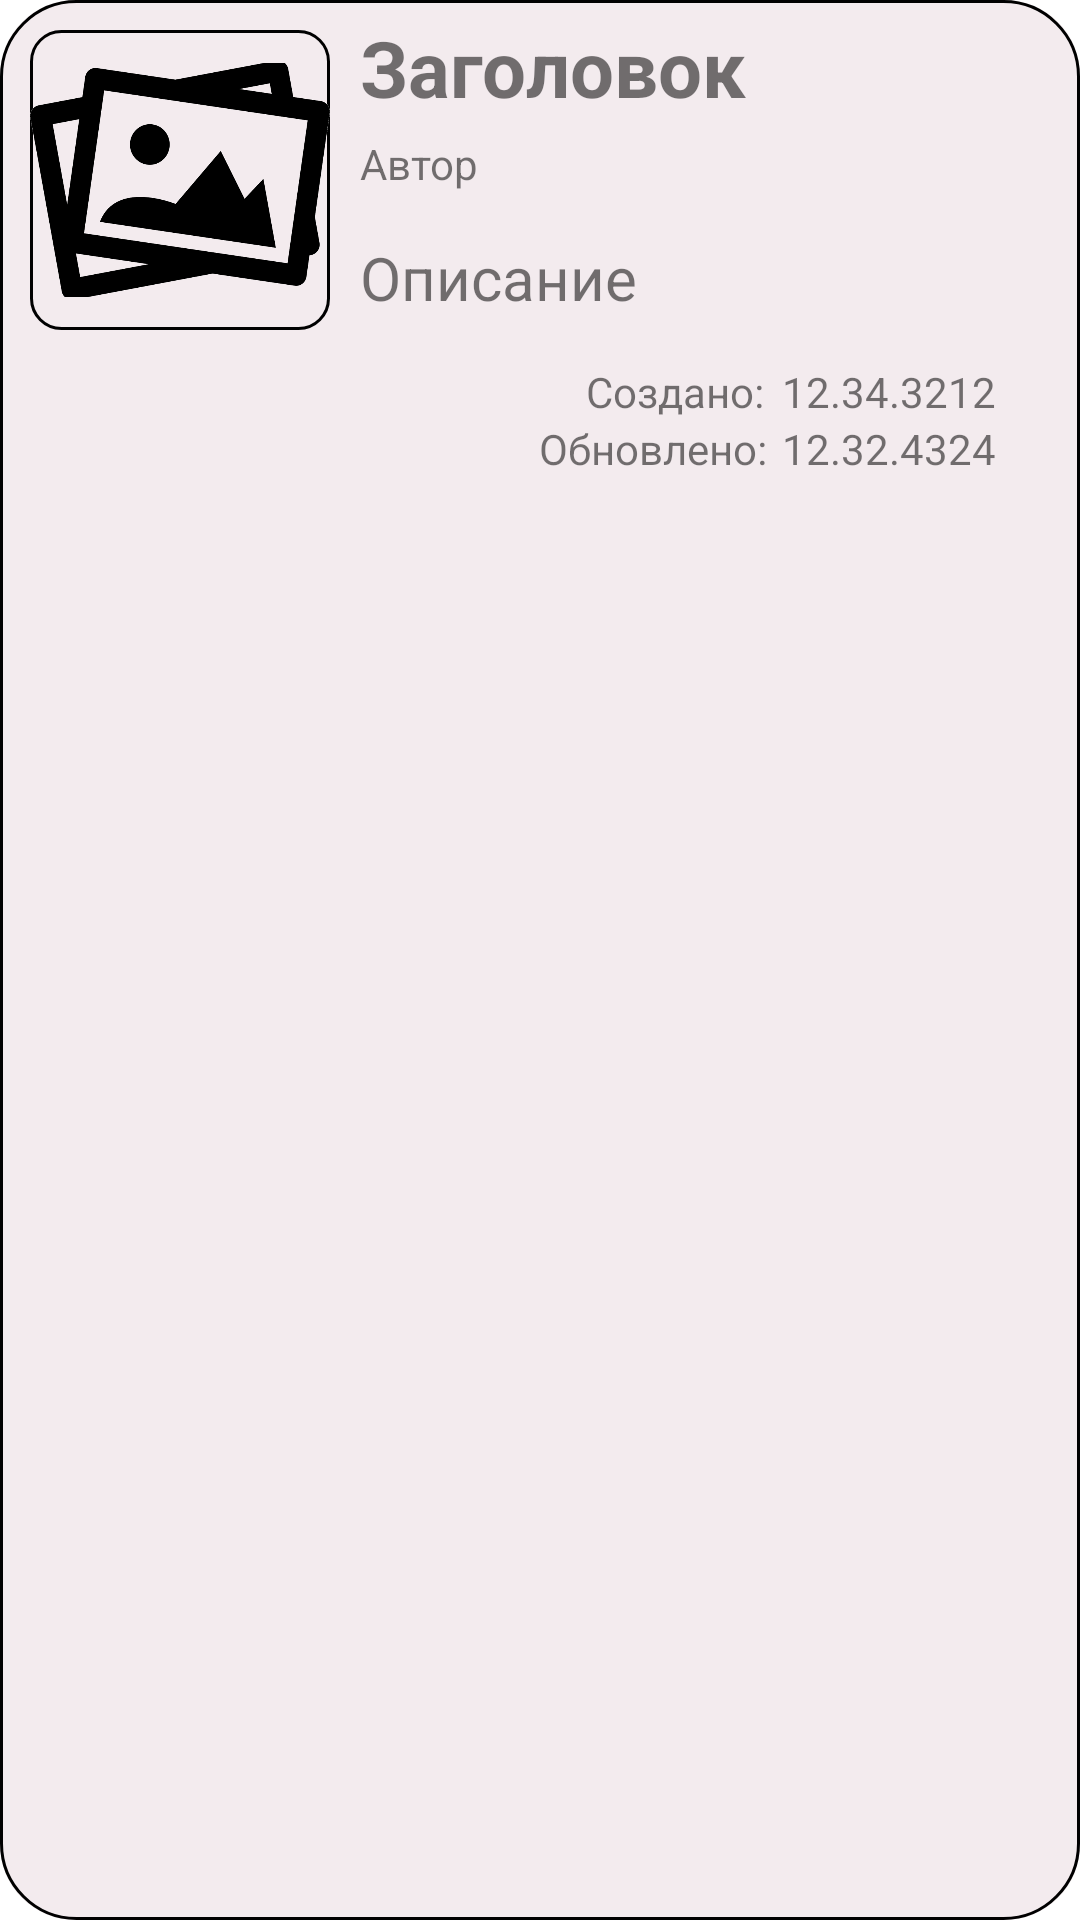

Screen size 1080 × 1920. Icon name, then its center in pixels as point (x, y):
post picture: point (180, 180)
